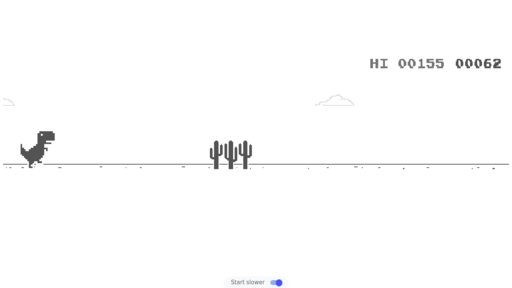dino: (19, 131, 56, 168)
tree: (209, 140, 253, 170)
